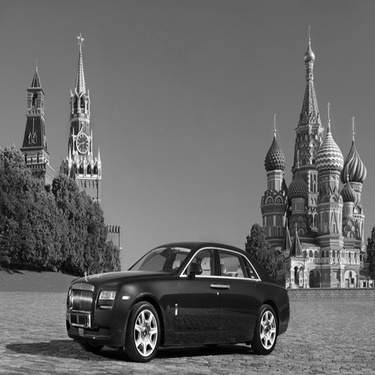car: (60, 238, 296, 367)
